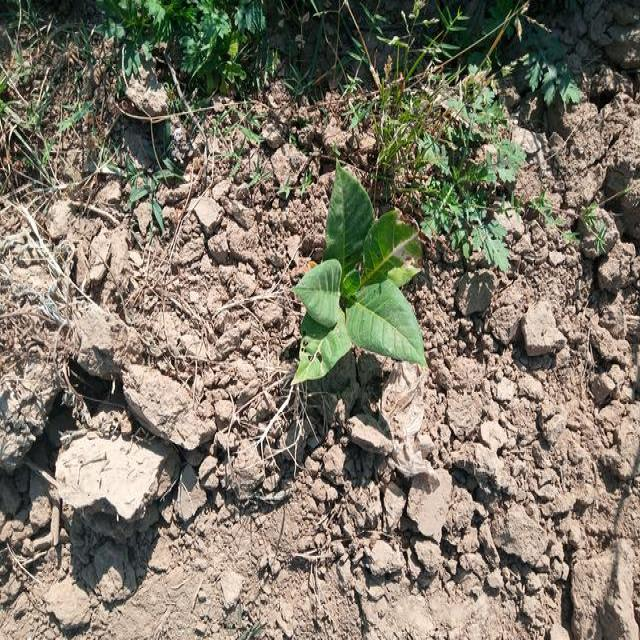crop: (290, 172, 418, 383)
